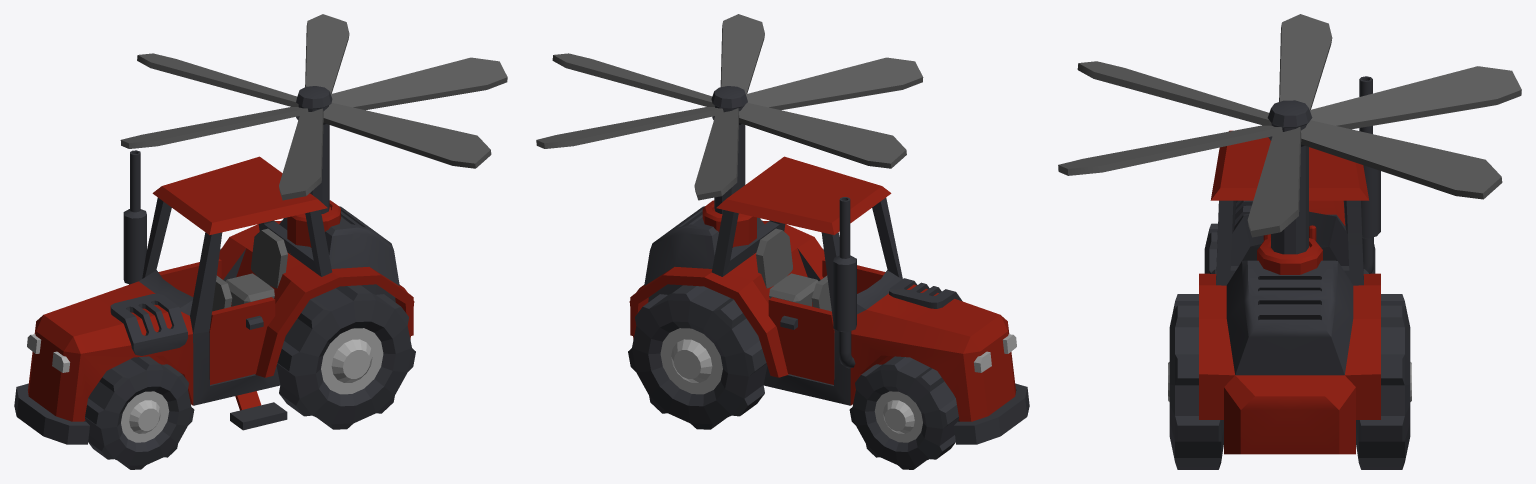
File: TraktoletDone.fbx
The picture shows the model from 3 angles, left to right: view 1: azimuth 30°, elevation 25°; view 2: azimuth 150°, elevation 25°; view 3: azimuth 270°, elevation 25°; orthographic projection. The views are drawn at different scales.
Parts seen in each view (by area): view 1: Base, Wheels, FL, Roof, Doors, Chairs, Plate, Engine, Pipe, Front, pCube10, Step (+1 smaller); view 2: Base, Wheels, FL, Roof, Doors, Chairs, Pipe, Engine, Front, pCube10, Plate, Light; view 3: Base, FL, Wheels, Roof, Engine, pCube10, Pipe.
Part boxes in pixels (x1,y1,x2,y2): Base: [28, 197, 414, 421]; Wheels: [84, 249, 415, 469]; FL: [120, 14, 507, 200]; Roof: [152, 156, 327, 235]; Doors: [158, 259, 275, 384]; Chairs: [212, 228, 287, 311]; Plate: [110, 293, 187, 355]; Engine: [287, 86, 340, 247]; Pipe: [123, 150, 146, 284]; Front: [14, 383, 89, 444]; pCube10: [258, 210, 332, 276]; Step: [230, 391, 287, 430]; Base: [629, 197, 1015, 421]; Wheels: [628, 249, 959, 469]; FL: [536, 14, 923, 200]; Roof: [716, 156, 891, 235]; Doors: [768, 259, 885, 384]; Chairs: [756, 228, 831, 311]; Pipe: [833, 197, 856, 368]; Engine: [702, 86, 756, 247]; Front: [954, 383, 1029, 444]; pCube10: [711, 210, 785, 276]; Plate: [889, 278, 962, 308]; Light: [973, 334, 1016, 372]; Base: [1199, 200, 1380, 454]; FL: [1058, 14, 1521, 237]; Wheels: [1168, 223, 1411, 469]; Roof: [1210, 130, 1369, 200]; Engine: [1257, 100, 1322, 274]; pCube10: [1216, 200, 1363, 285]; Pipe: [1359, 76, 1380, 273].
Size of the model in its own units: 10.1 by 6.33 by 7.27.
